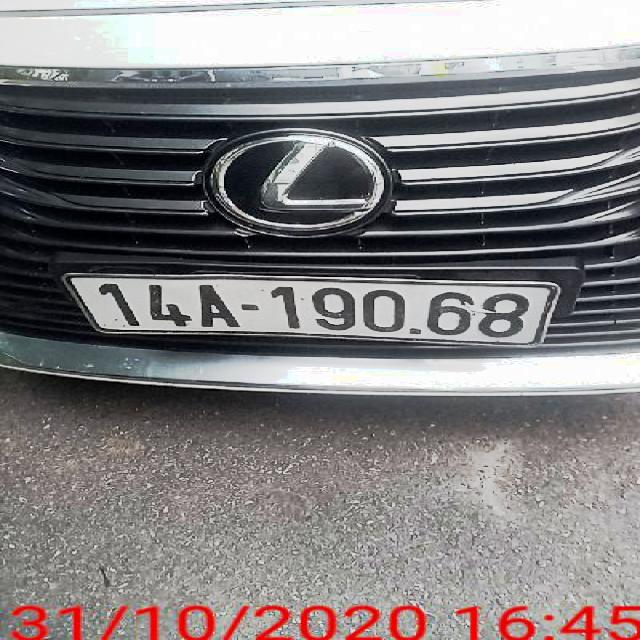license_plate: (67, 281, 554, 345)
